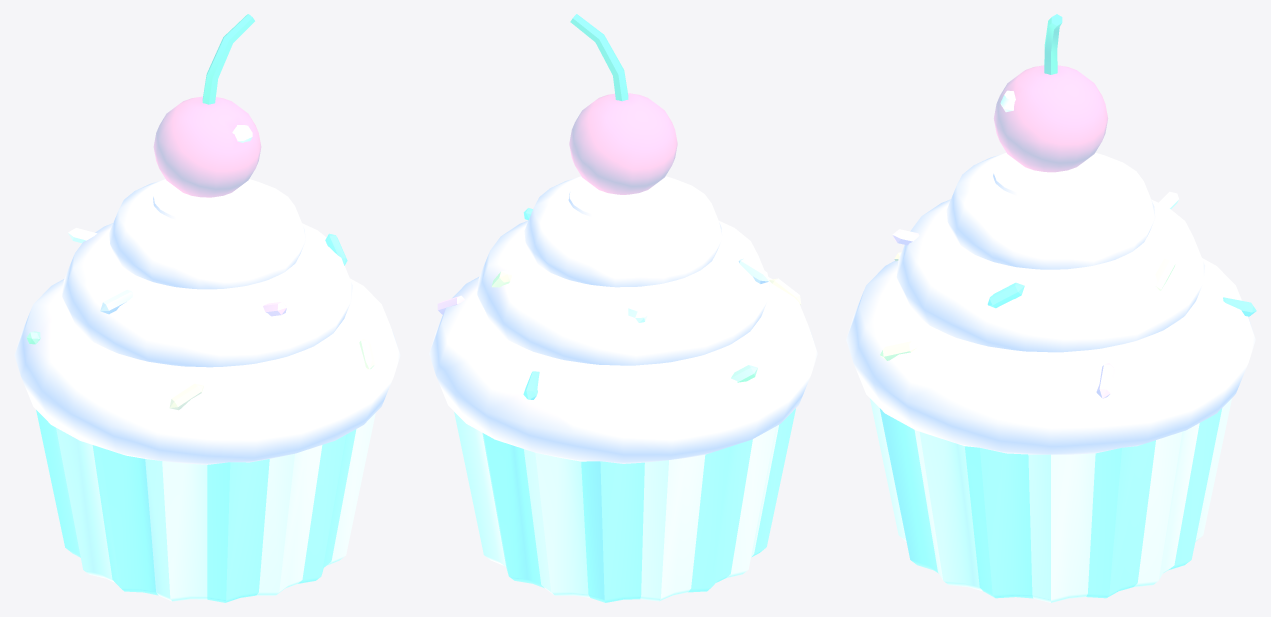
Rendered from props__CandyCupcake.glb.
The picture shows the model from 3 angles, left to right: view 1: azimuth 30°, elevation 25°; view 2: azimuth 150°, elevation 25°; view 3: azimuth 270°, elevation 25°; orthographic projection. The views are drawn at different scales.
Visible parts, largest first — view 1: CandyCupcake; view 2: CandyCupcake; view 3: CandyCupcake.
Boxes of the visible parts, <box> form: CandyCupcake: <box>14,14,400,602</box>; CandyCupcake: <box>429,14,817,602</box>; CandyCupcake: <box>846,14,1256,602</box>.
Size of the model in its own units: 6.8 by 10.09 by 6.82.
